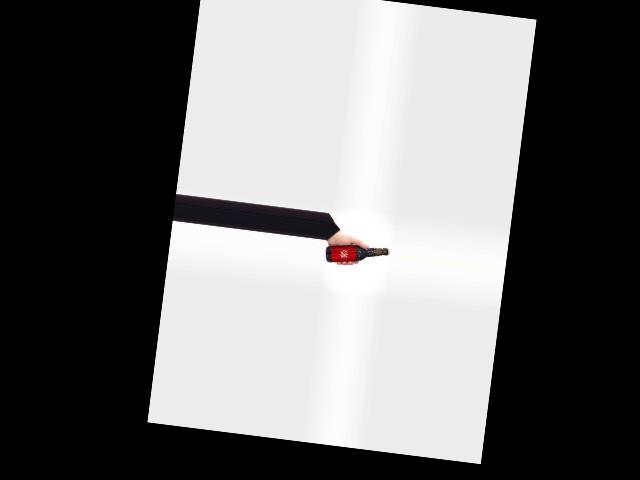beer: (324, 240, 390, 270)
